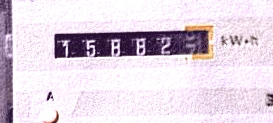1: (61, 38, 70, 56)
2: (159, 35, 172, 55)
5: (83, 38, 97, 57)
7: (184, 41, 196, 53)
8: (133, 35, 147, 56), (109, 36, 122, 57)
screen: (48, 23, 218, 66)
